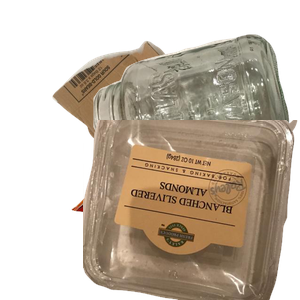cardboard: (50, 38, 233, 184)
glass: (91, 32, 300, 189)
plastic: (83, 120, 300, 300)
trash: (69, 153, 239, 300)
